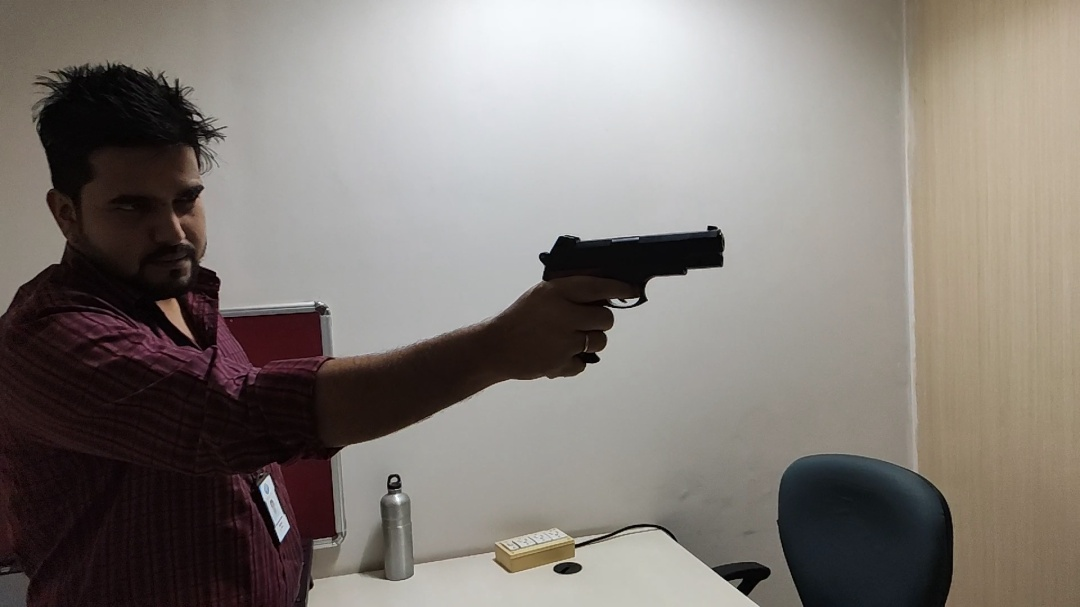gun: (537, 222, 730, 364)
